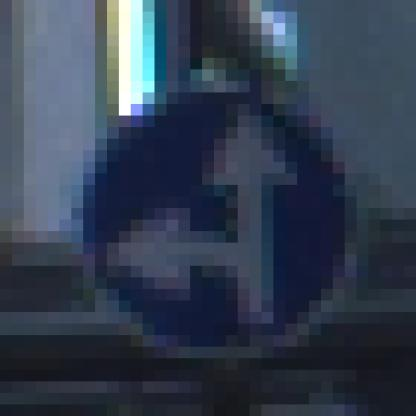Straight or Left: (60, 70, 346, 348)
